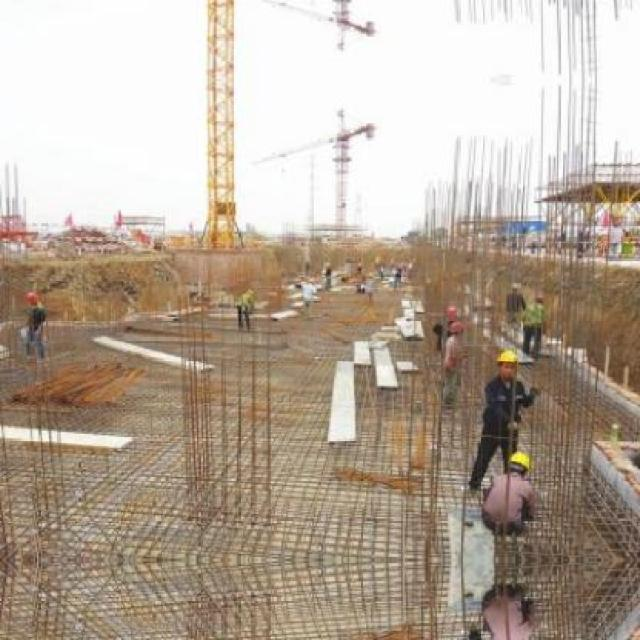helmet: (503, 449, 531, 480), (495, 348, 520, 378)
